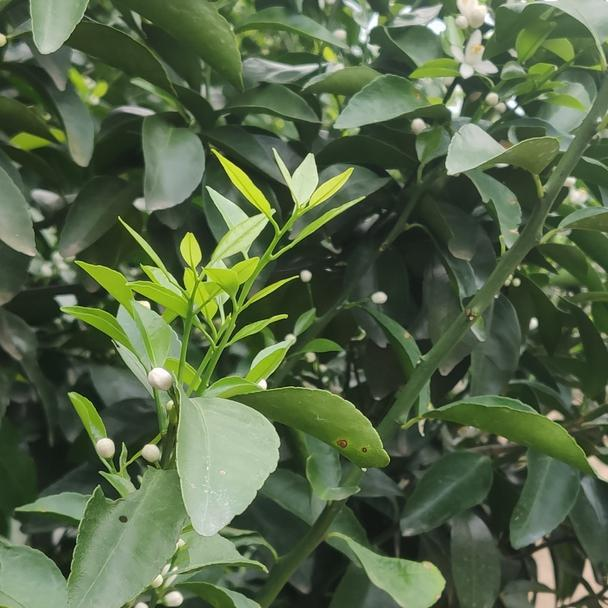shoot: (209, 148, 365, 334), (117, 217, 265, 379)
